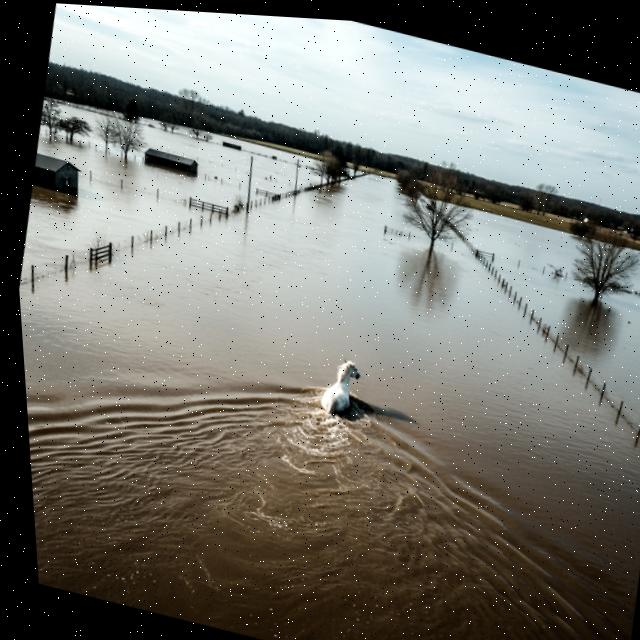horse: (308, 346, 377, 431)
